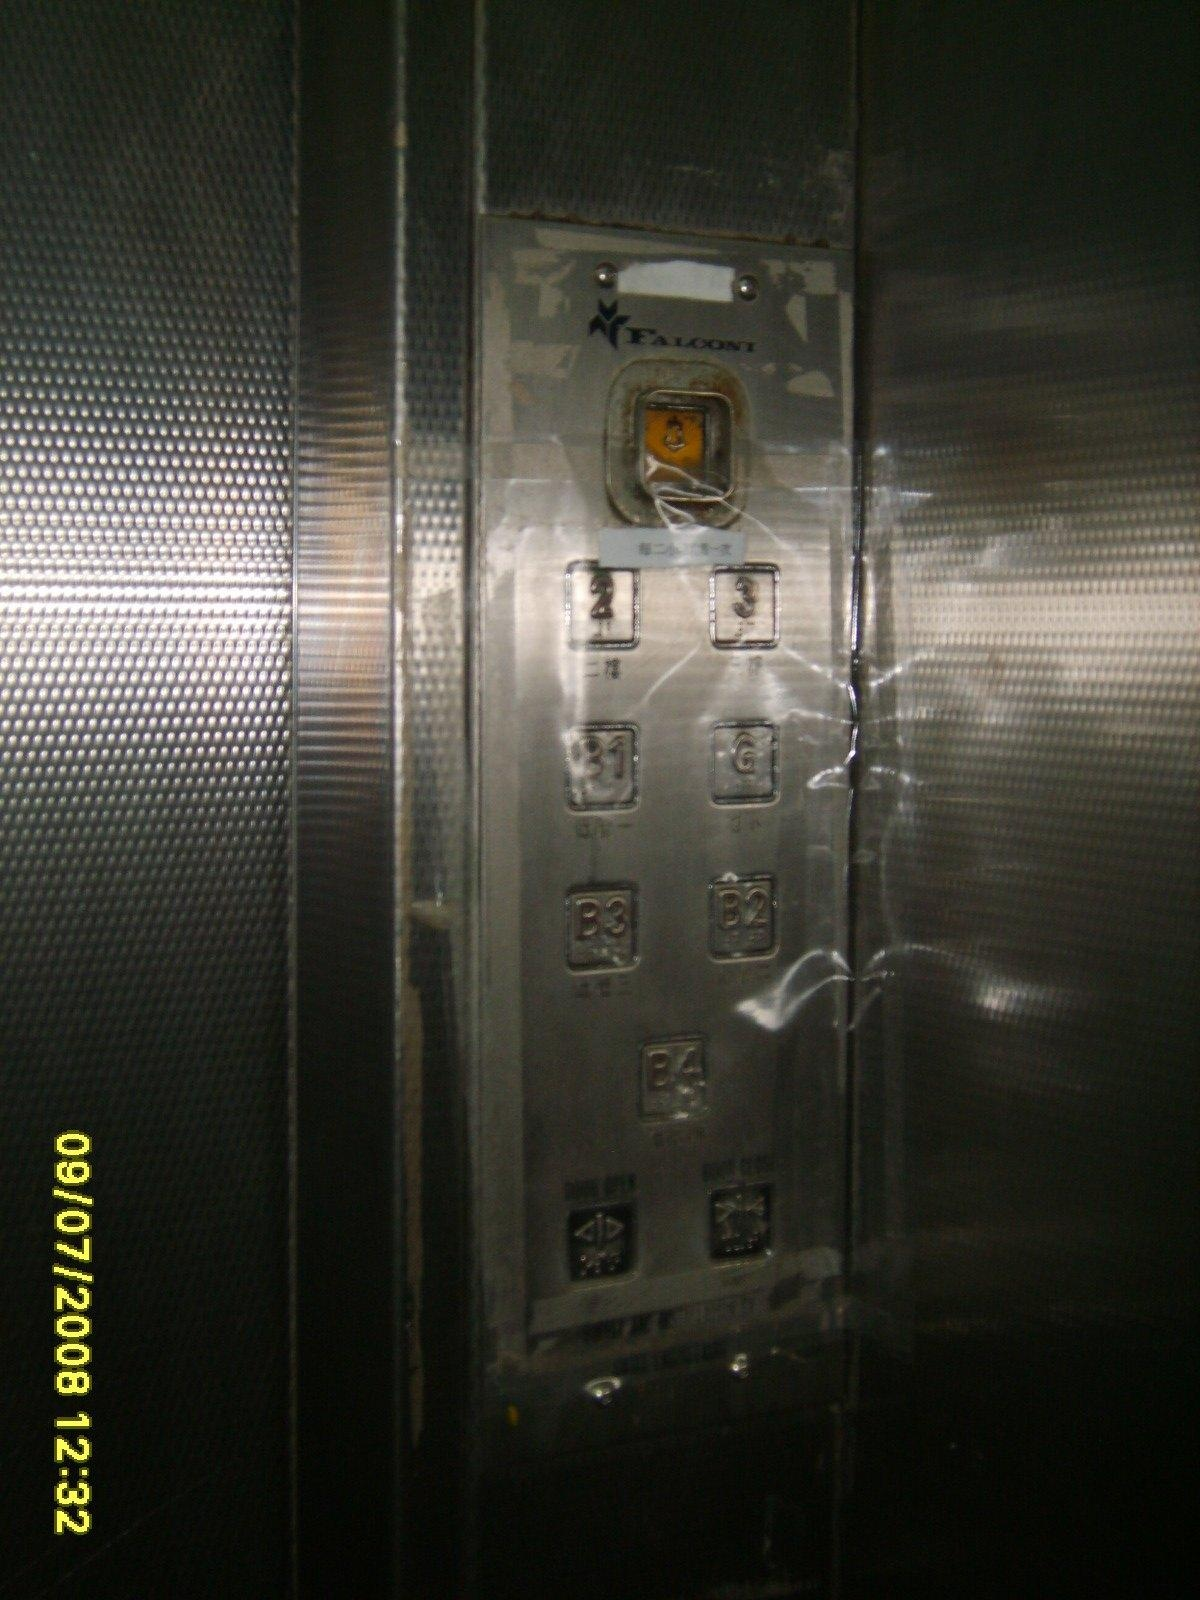2: (565, 559, 642, 651)
3: (707, 561, 782, 651)
B1: (561, 722, 640, 816)
B2: (705, 876, 779, 963)
B3: (561, 882, 642, 976)
B4: (637, 1032, 711, 1124)
G: (707, 717, 782, 809)
alarm: (633, 386, 736, 506)
close: (706, 1182, 771, 1267)
open: (563, 1199, 637, 1286)
